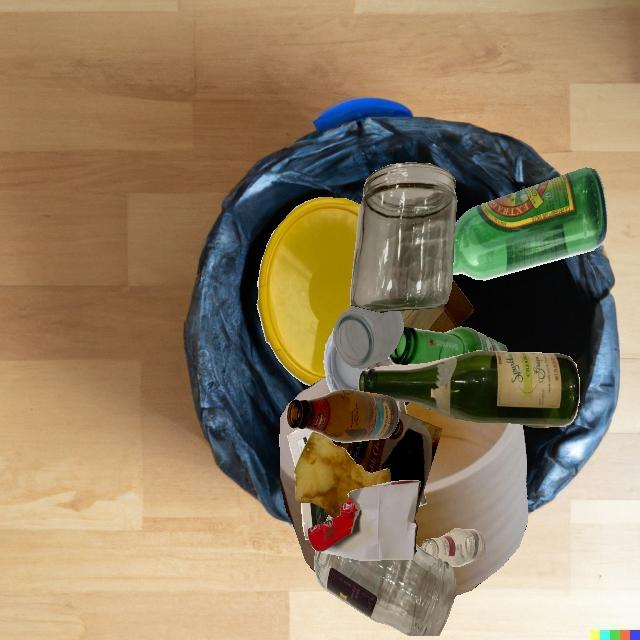biowaste: (294, 431, 391, 518)
cardboard: (331, 411, 442, 512), (399, 279, 474, 333), (401, 314, 431, 409)
combustible waste: (406, 402, 527, 596)
glass: (452, 167, 607, 280), (358, 351, 579, 427), (350, 162, 457, 313), (314, 544, 456, 636), (286, 389, 399, 443), (388, 326, 507, 365), (333, 305, 404, 368), (421, 528, 486, 567), (367, 359, 395, 370)
paper: (307, 480, 421, 561), (306, 432, 365, 511), (365, 411, 424, 490), (287, 429, 307, 468), (316, 511, 329, 526), (301, 502, 306, 540), (418, 490, 427, 507), (397, 400, 407, 415), (307, 526, 316, 536)
plastic: (257, 197, 361, 386), (336, 347, 397, 405), (323, 345, 361, 393), (279, 433, 280, 447)
